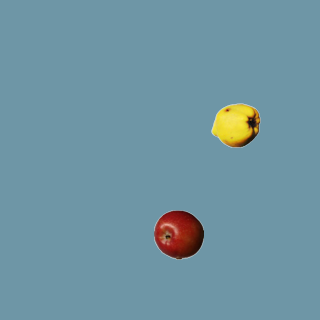Apple Braeburn: (153, 209, 203, 259)
Quince: (210, 100, 260, 150)
